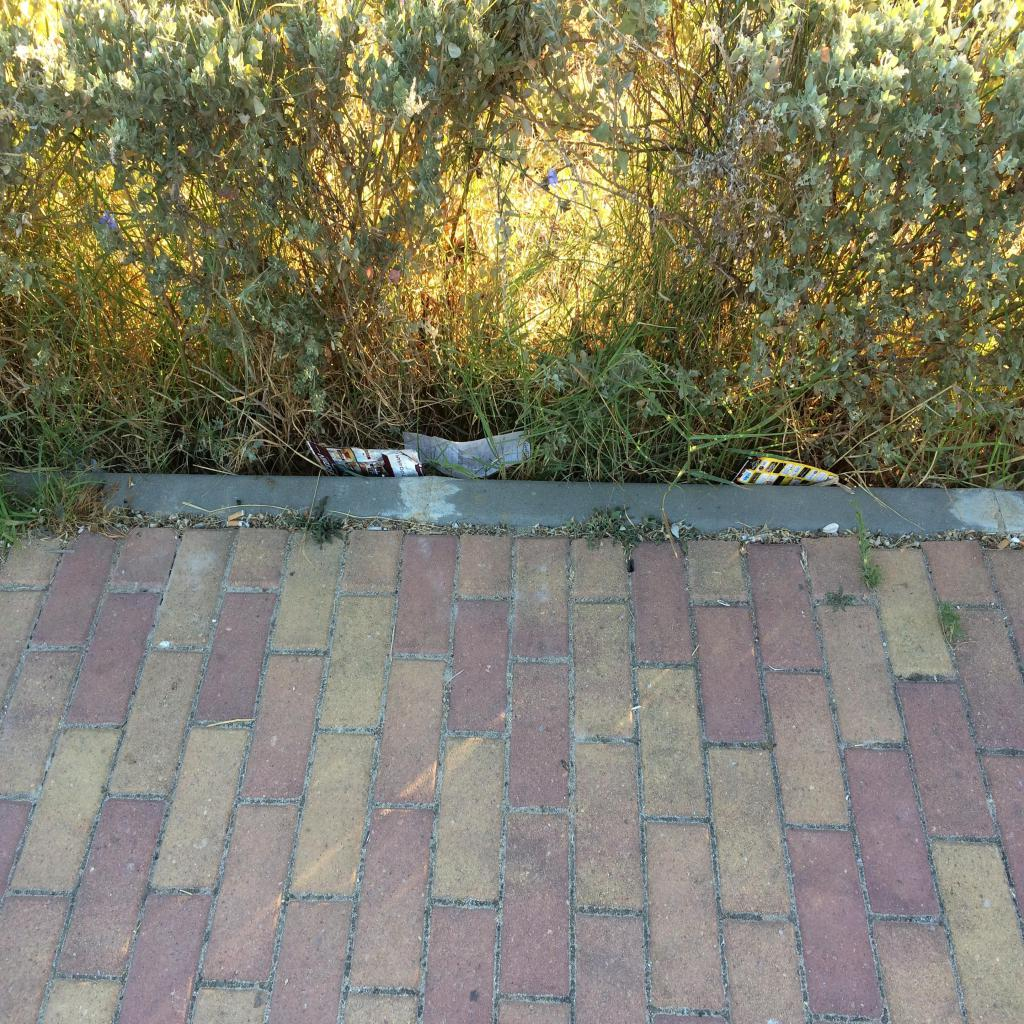Cigarette: (228, 508, 246, 520), (997, 538, 1011, 549), (227, 520, 244, 526)
Magazine paper: (306, 441, 426, 477), (728, 456, 854, 487)
Normal paper: (402, 430, 530, 480)
